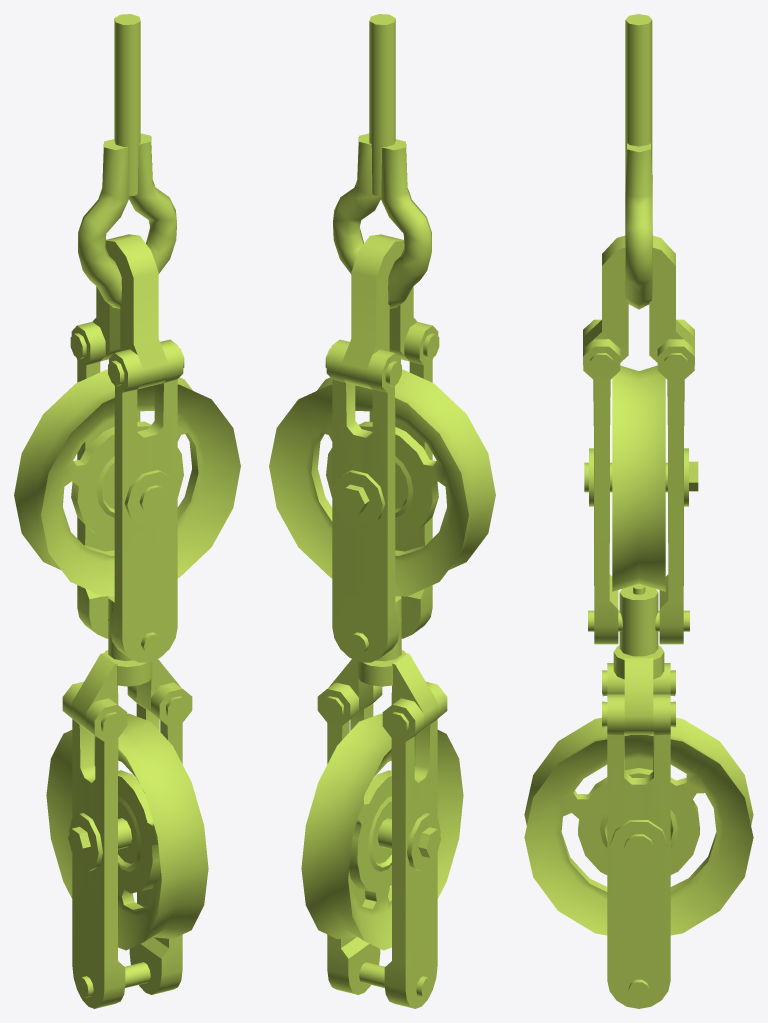
File: Crossover SnatchBlock.fbx
The picture shows the model from 3 angles, left to right: view 1: azimuth 30°, elevation 25°; view 2: azimuth 150°, elevation 25°; view 3: azimuth 270°, elevation 25°; orthographic projection.
Parts seen in each view (by area): view 1: Safe-T Snatch Block; view 2: Safe-T Snatch Block; view 3: Safe-T Snatch Block.
Boxes of the visible parts, box(x1,y1,x2,y2) form: Safe-T Snatch Block: box(14, 14, 240, 1008); Safe-T Snatch Block: box(269, 14, 495, 1008); Safe-T Snatch Block: box(524, 14, 753, 1008).
Size of the model in its own units: 16.97 by 79.27 by 16.97.
